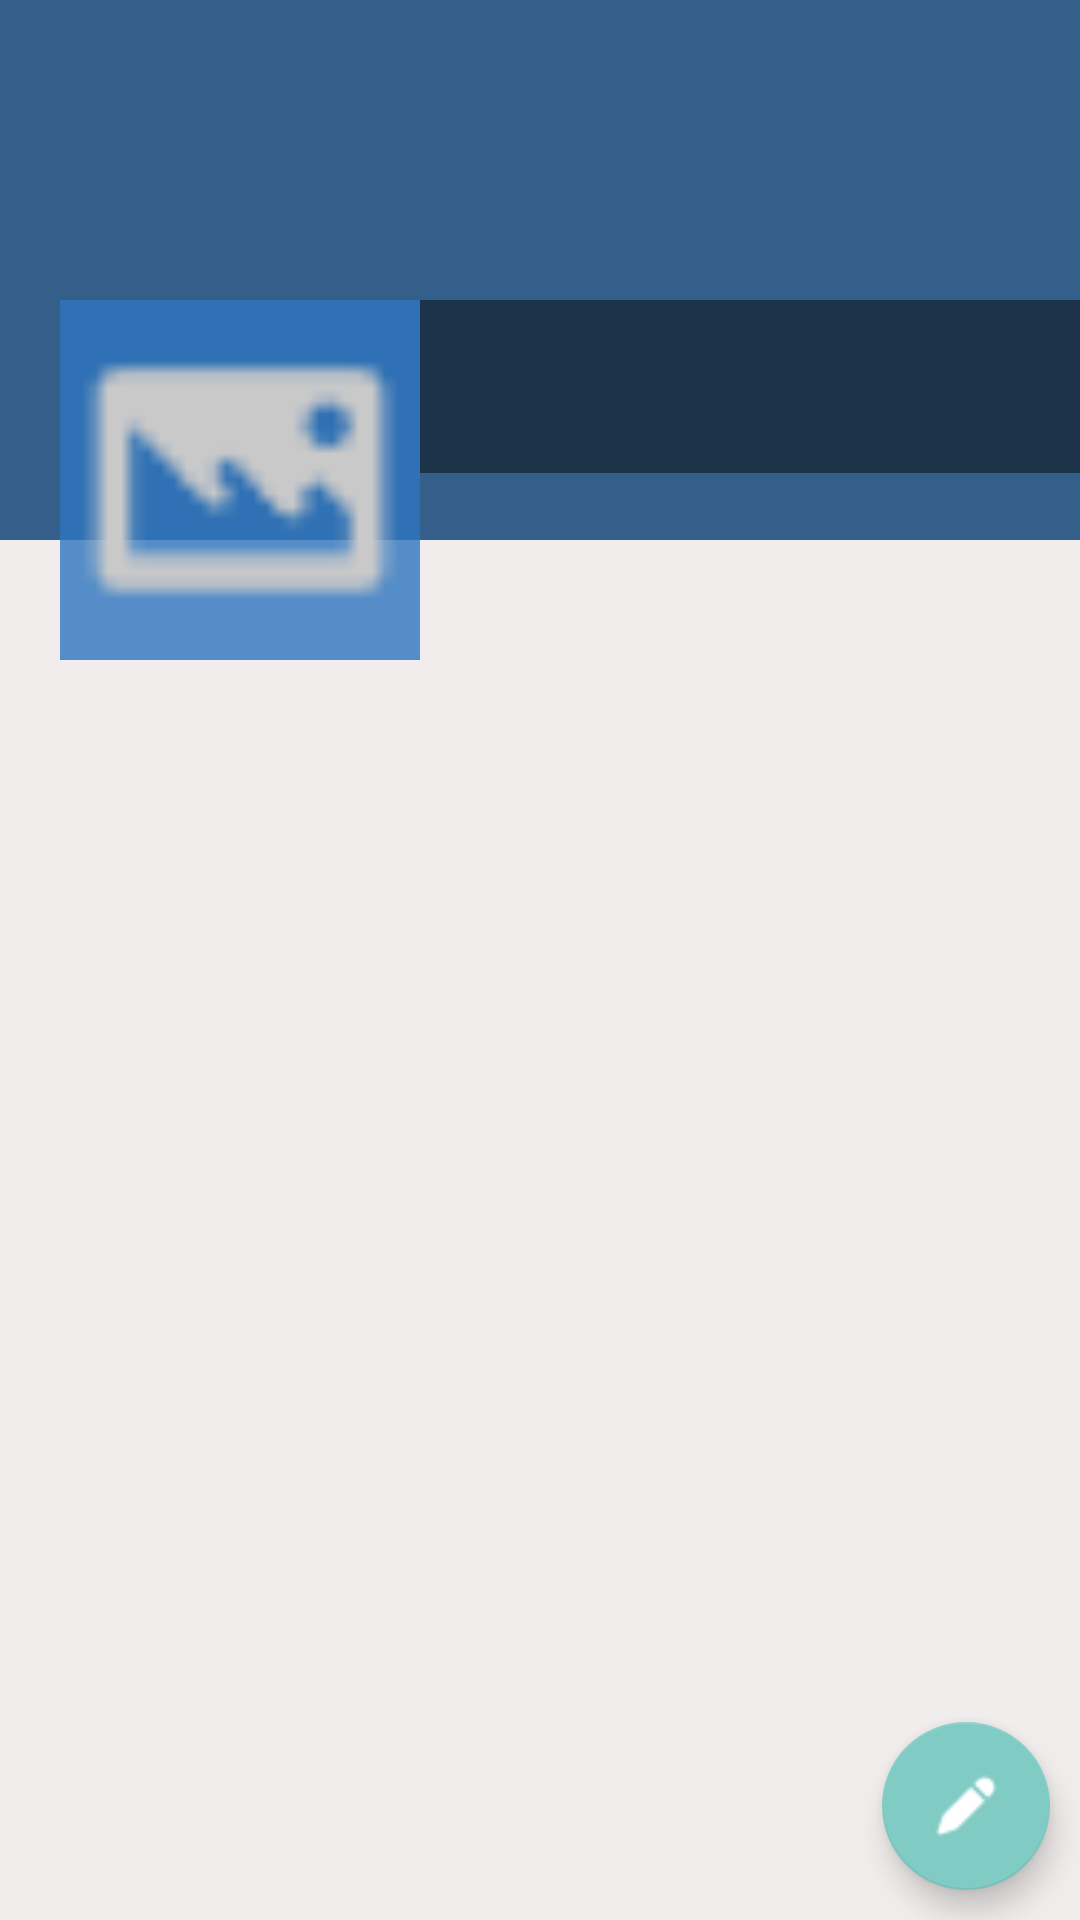

Icon bounding boxes for this 1080w x 1920h phone screenshot, format (x1, y1, x2, y2):
edit: (882, 1722, 1050, 1890)
